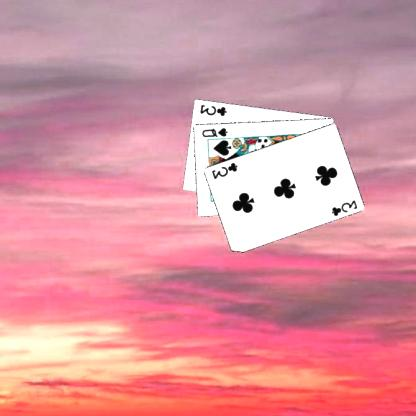3C: (210, 160, 240, 180), (330, 198, 360, 218), (198, 102, 230, 117)
QS: (202, 125, 231, 138)
